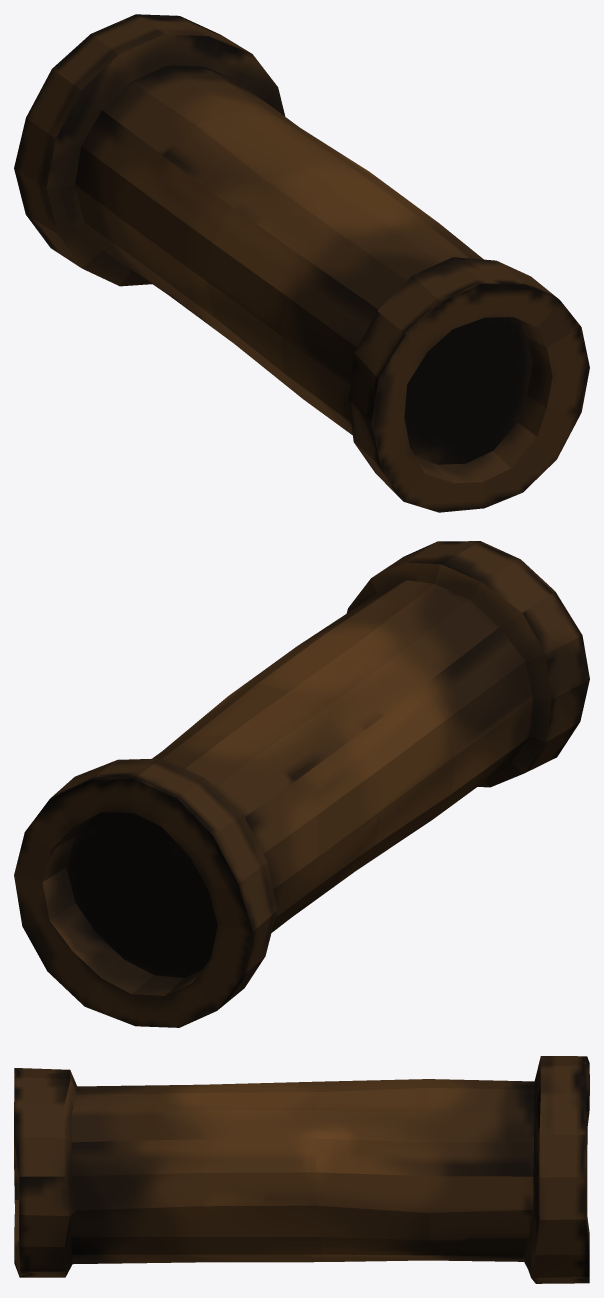
File: Pipe.fbx
3 views of the same model, one above another, from view 1: azimuth 30°, elevation 25°; view 2: azimuth 150°, elevation 25°; view 3: azimuth 270°, elevation 25° (orthographic). The views are drawn at different scales.
Visible parts, largest first — view 1: Pipe; view 2: Pipe; view 3: Pipe.
Boxes of the visible parts, left/top/right/bottom form: Pipe: left=14, top=14, right=589, bottom=512; Pipe: left=14, top=541, right=589, bottom=1027; Pipe: left=14, top=1056, right=589, bottom=1283.
Size of the model in its own units: 0.5808 by 0.5636 by 1.44.
